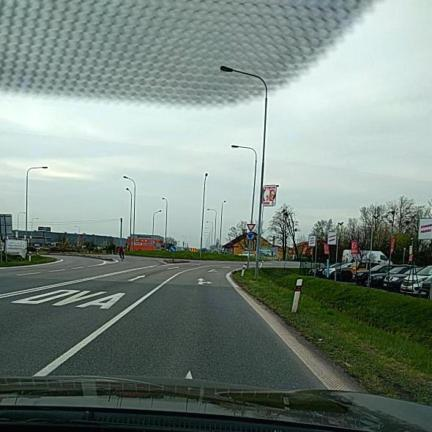Road: (0, 257, 323, 389)
